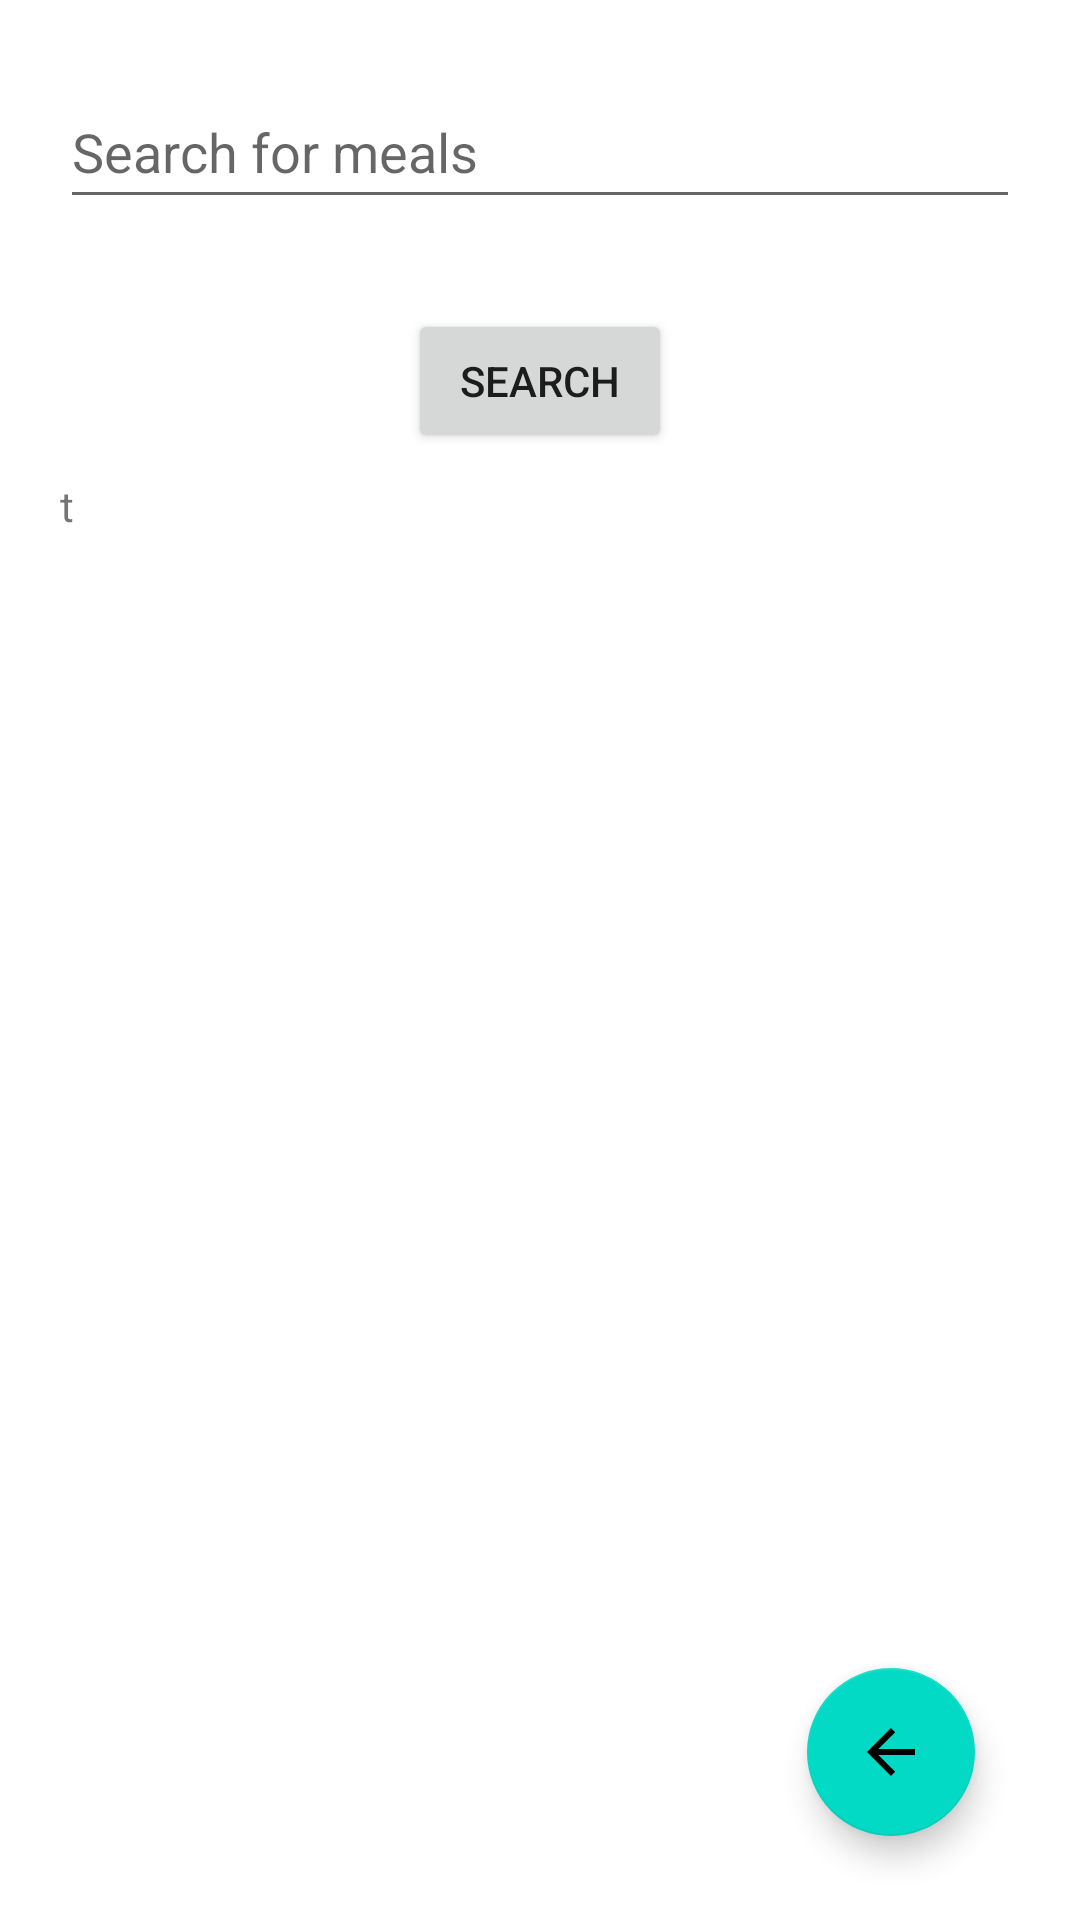

Point at icon controls on the screen. Image size 1080x1920, points as (x,y).
back: (891,1752)
